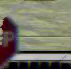Stop: (0, 15, 25, 66)
